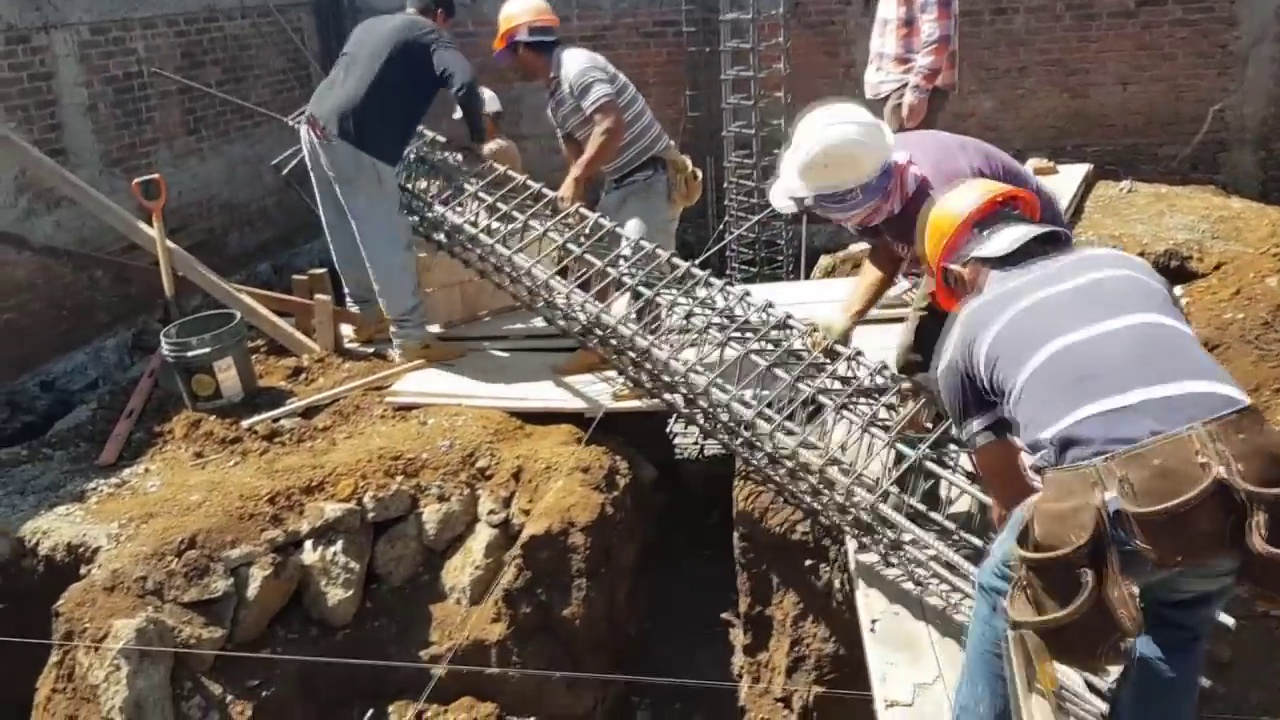helmet: (923, 175, 1042, 315), (773, 98, 901, 206), (491, 0, 560, 51), (446, 86, 504, 120)
helmet-off: (404, 0, 458, 31)
helmet-on: (769, 94, 925, 242), (925, 174, 1072, 315), (490, 1, 557, 86), (446, 85, 505, 142)
person: (924, 172, 1280, 701), (766, 84, 1070, 347), (483, 0, 703, 361), (300, 0, 485, 366), (852, 0, 961, 142), (444, 87, 527, 179)
